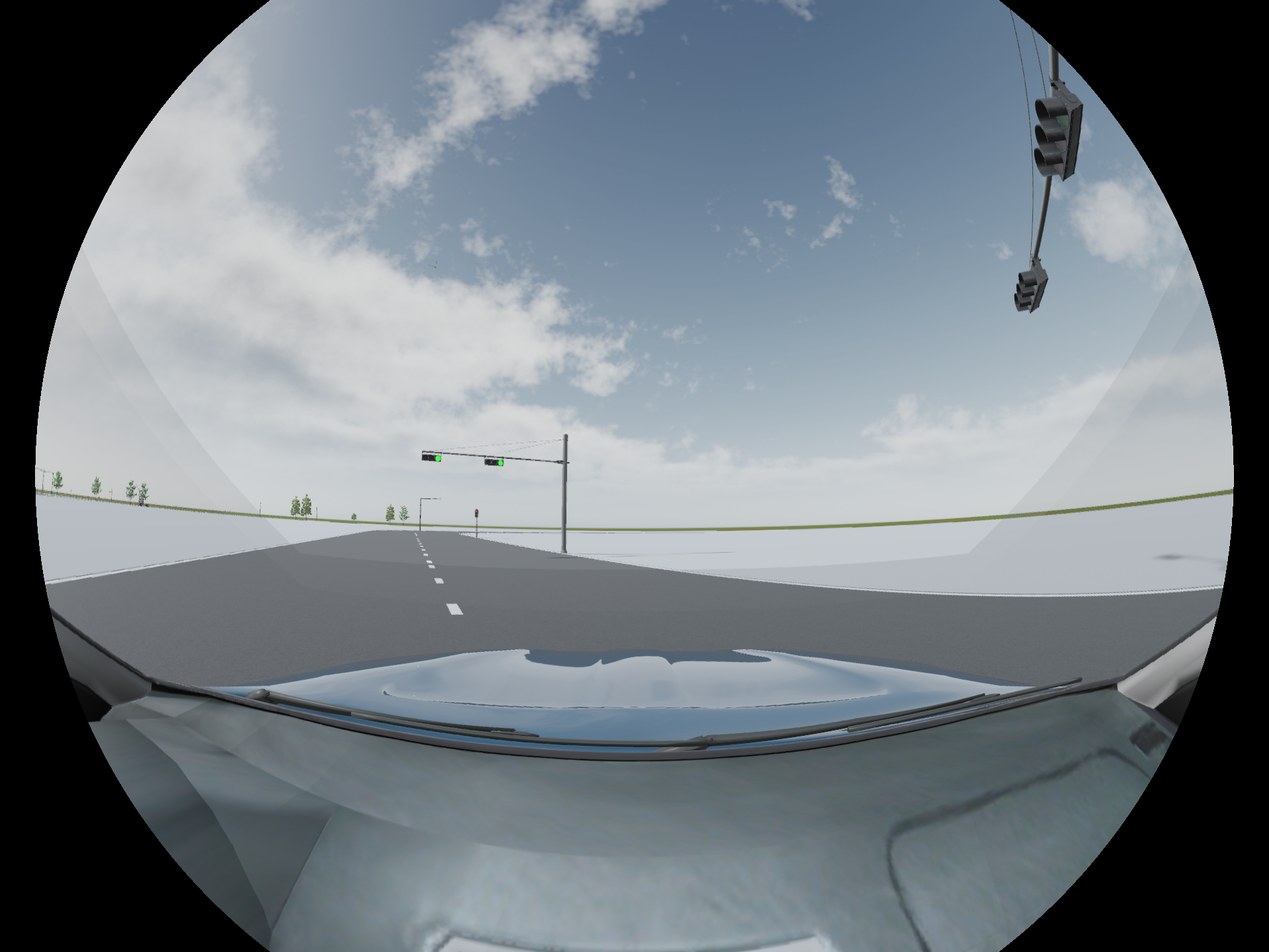Green Light: (420, 453, 443, 464), (483, 458, 507, 467)
